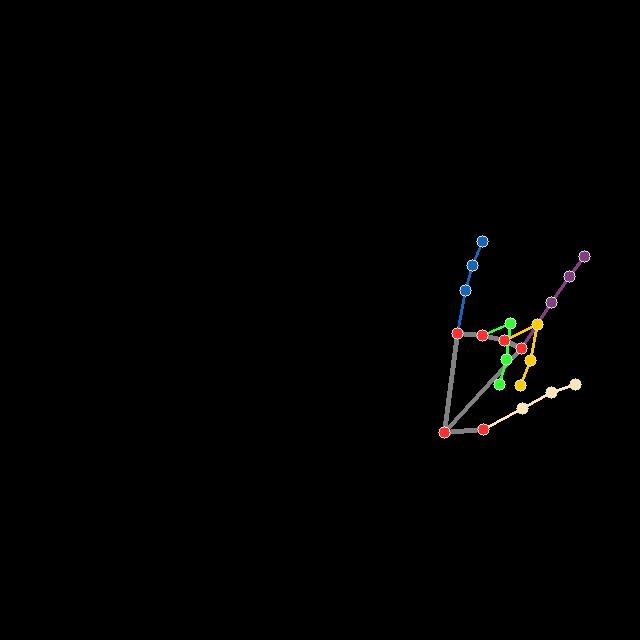spiderman: (440, 235, 591, 437)
